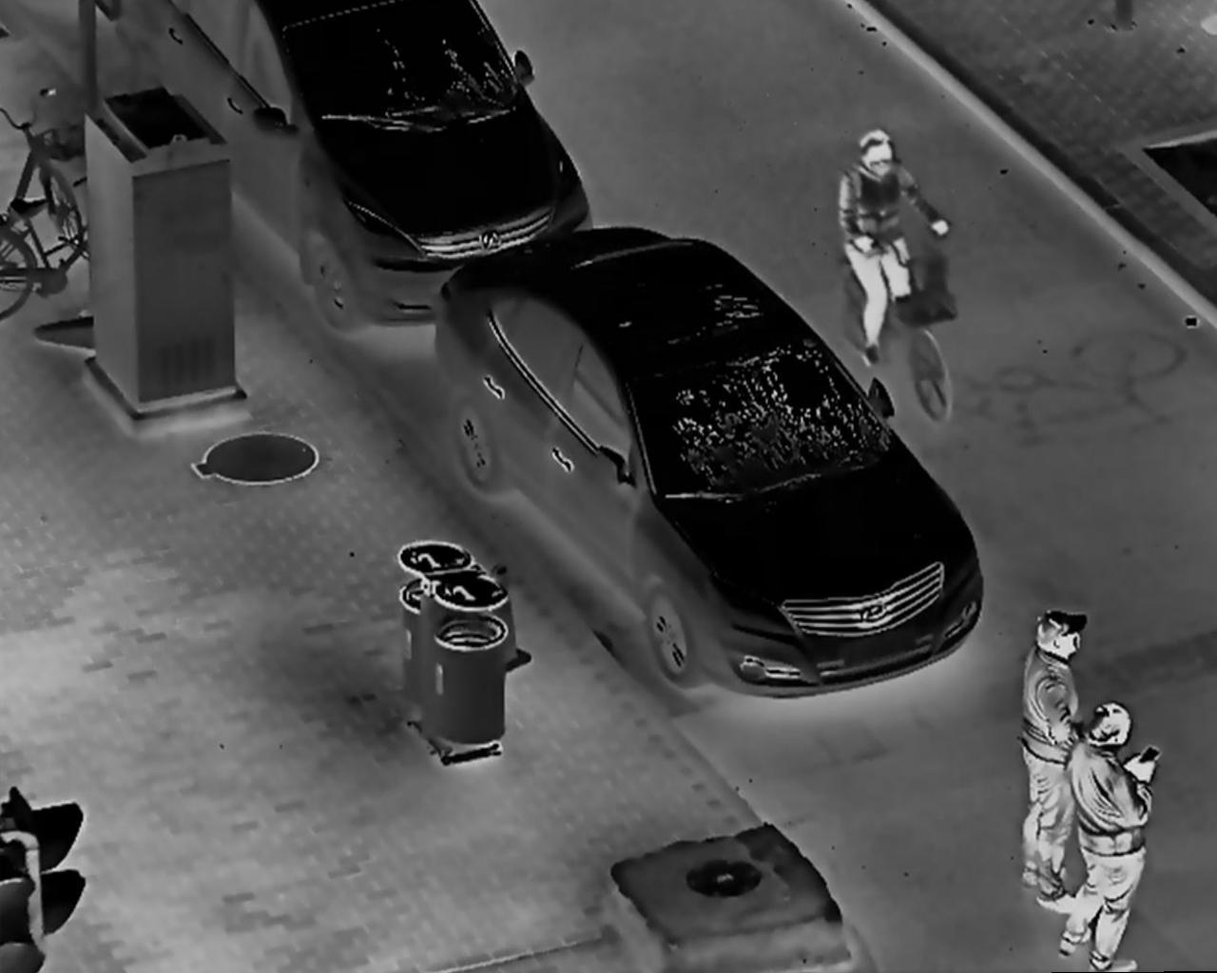person: (1050, 704, 1159, 973), (840, 129, 950, 353), (1015, 612, 1087, 910)
